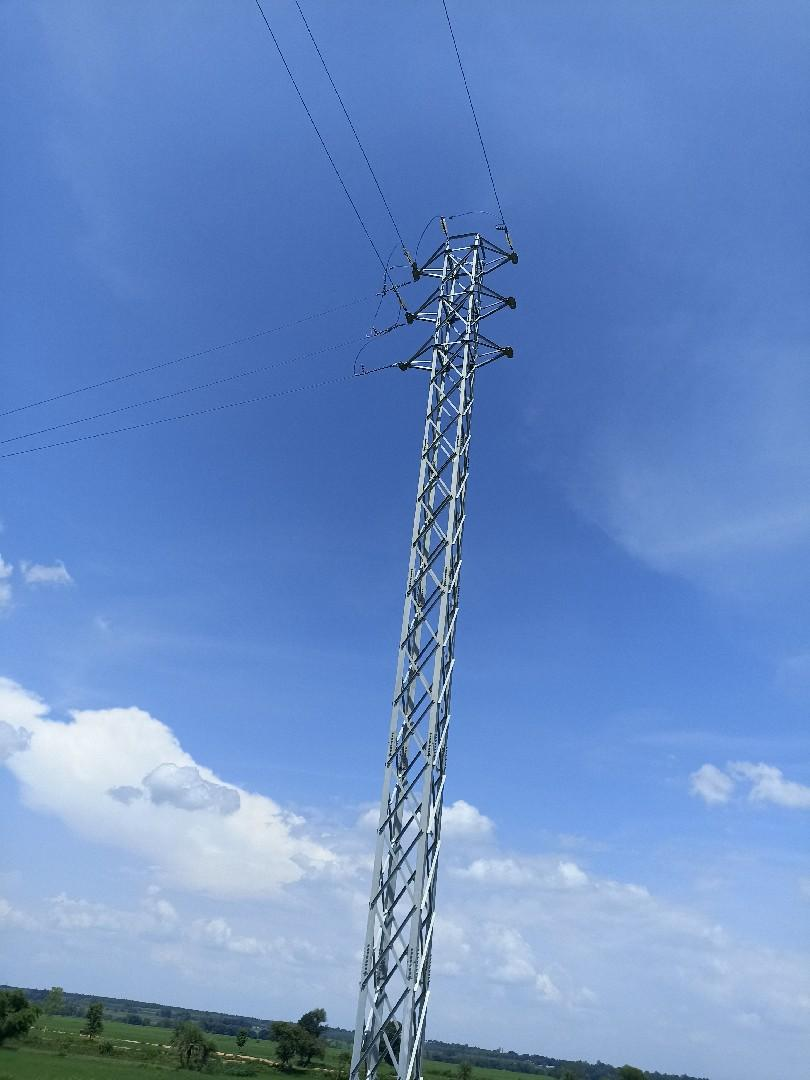Microwave Antenna: (343, 229, 528, 1064)
